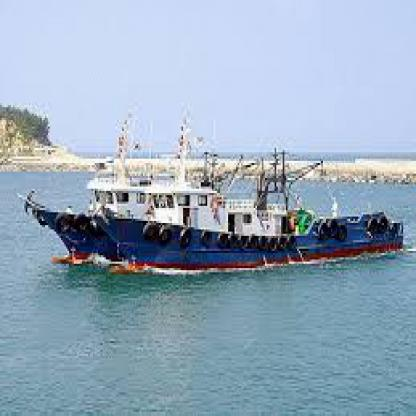fish-b: (95, 137, 414, 277)
